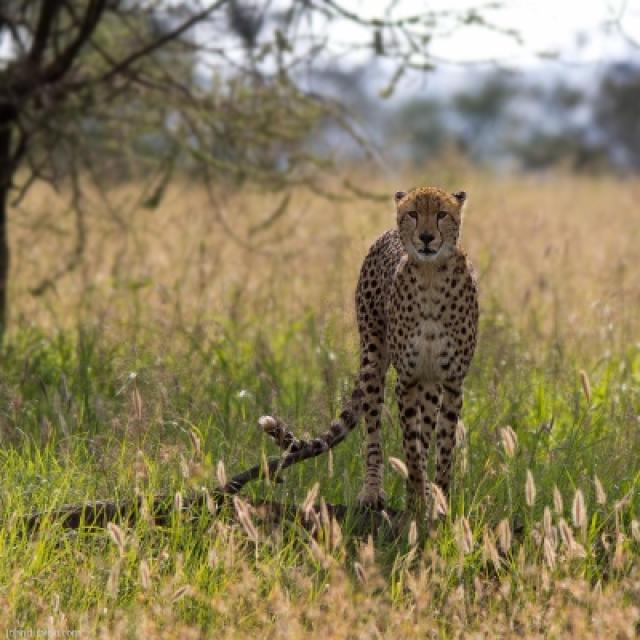Cheetah: (265, 188, 481, 520)
